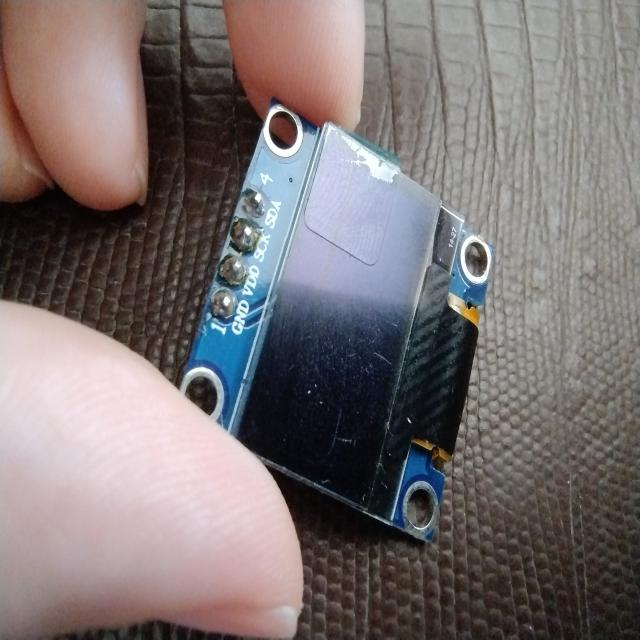oled: (172, 90, 503, 566)
